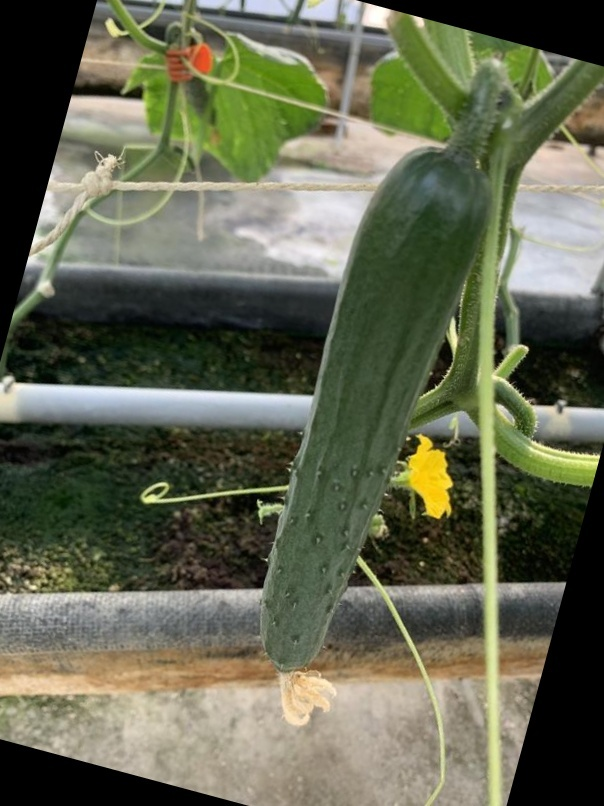mature: (250, 156, 473, 686)
